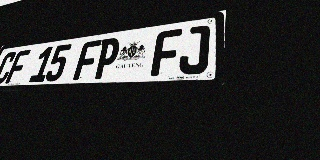1: (29, 46, 56, 82)
5: (44, 44, 72, 82)
C: (0, 51, 18, 84)
F: (150, 28, 182, 76), (73, 40, 102, 80), (5, 49, 31, 84)
J: (178, 25, 210, 75)
P: (92, 37, 122, 79)
